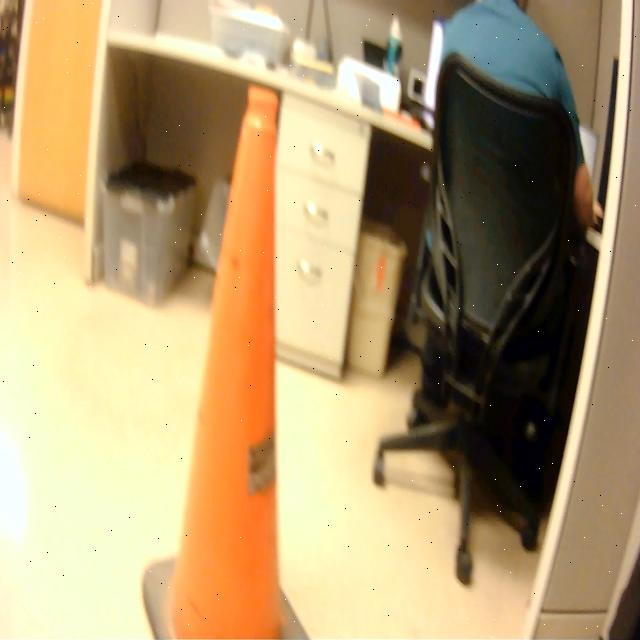traffic cone: (136, 77, 316, 640)
